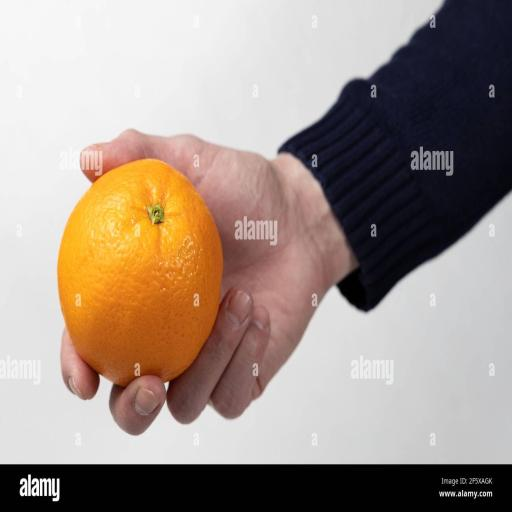orange: (58, 160, 222, 386)
